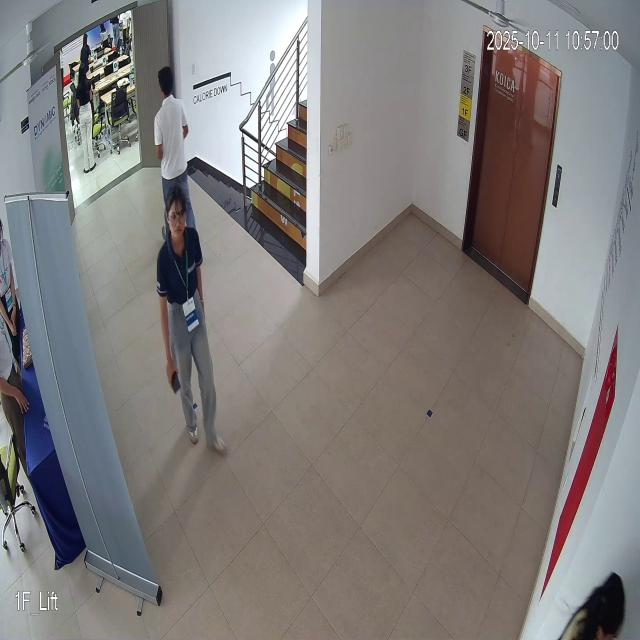face: (160, 178, 188, 249)
